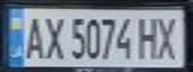0: (84, 15, 103, 60)
4: (115, 13, 139, 60)
5: (66, 14, 87, 61)
7: (100, 15, 118, 60)
A: (18, 12, 45, 61)
H: (136, 14, 163, 61)
X: (154, 14, 184, 61), (39, 12, 66, 61)
